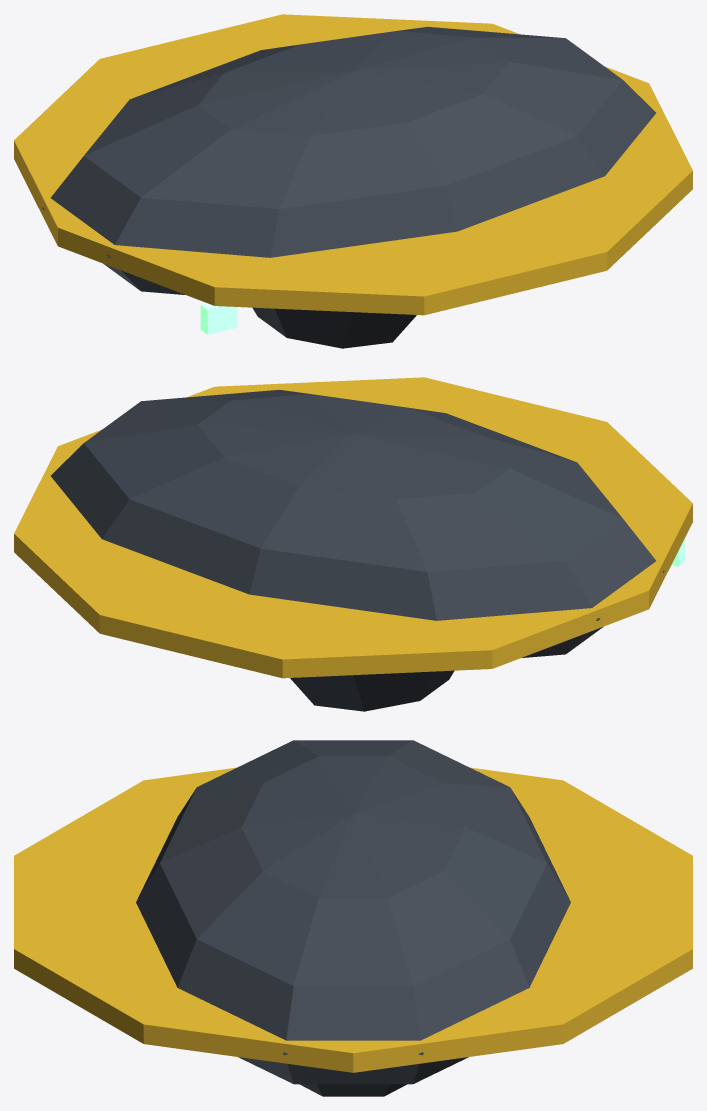
The model's file is hopper_loader.glb.
3 renders of one model, top to bottom at view 1: azimuth 30°, elevation 25°; view 2: azimuth 150°, elevation 25°; view 3: azimuth 270°, elevation 25°, orthographic. The views are drawn at different scales.
Visible parts, largest first — view 1: hopper_loader; view 2: hopper_loader; view 3: hopper_loader.
Part boxes in pixels (x1,y1,x2,y2): hopper_loader: (14, 14, 692, 348); hopper_loader: (14, 377, 692, 711); hopper_loader: (14, 740, 692, 1096).
Size of the model in its own units: 0.198 by 0.0803 by 0.1883.
